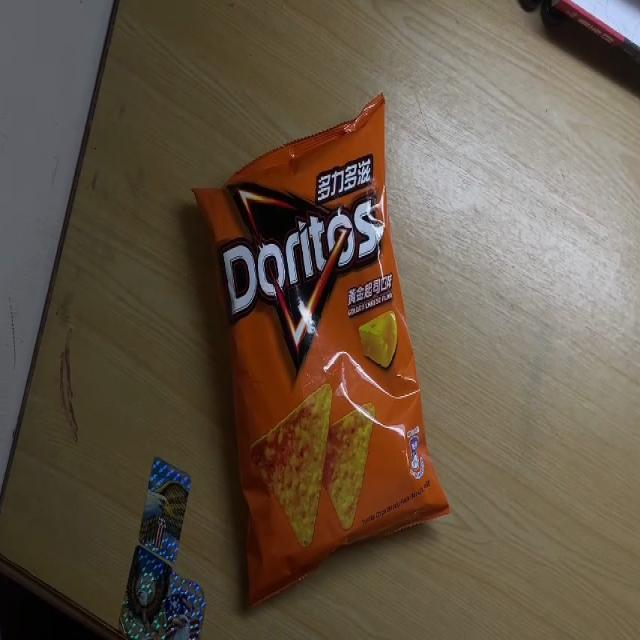Doritos: (189, 92, 451, 612)
